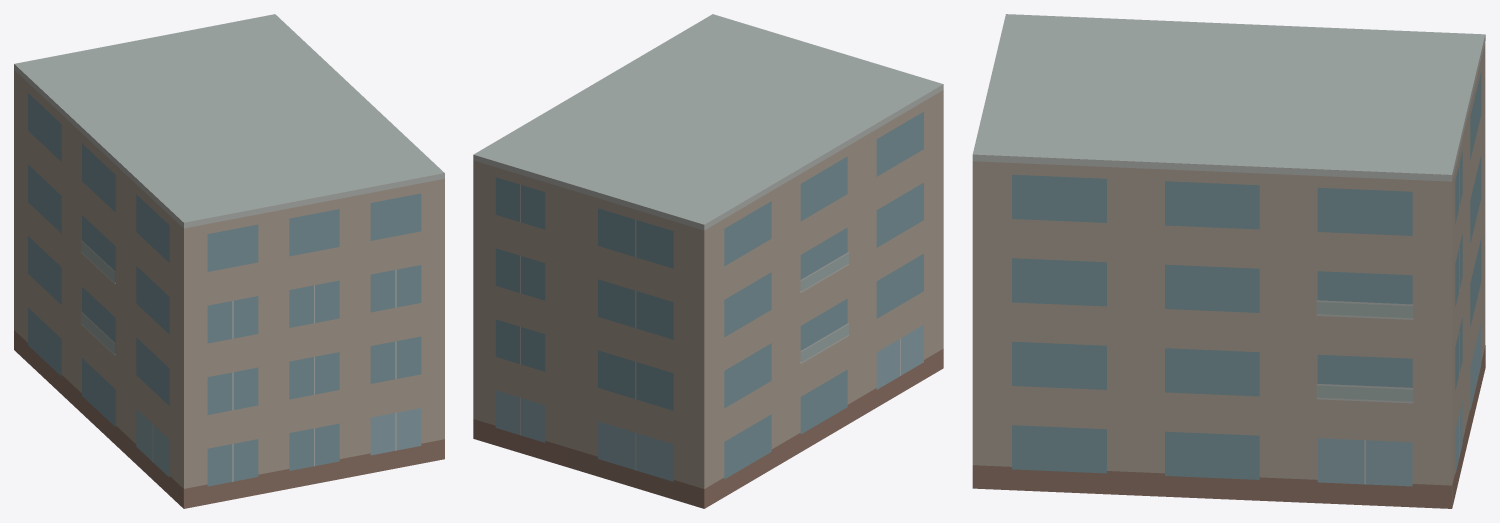
File: residential-0fbb04ec-c021-4abb-ad24-7d38bbdd59fc.glb
3 renders of one model, left to right at view 1: azimuth 30°, elevation 25°; view 2: azimuth 150°, elevation 25°; view 3: azimuth 270°, elevation 25°, orthographic. The views are drawn at different scales.
Parts seen in each view (by area): view 1: residential-0fbb04ec-c021-4abb-ad24-7d38bbdd59fc.tmp; view 2: residential-0fbb04ec-c021-4abb-ad24-7d38bbdd59fc.tmp; view 3: residential-0fbb04ec-c021-4abb-ad24-7d38bbdd59fc.tmp.
Boxes of the visible parts, x1,y1,x2,y2 form: residential-0fbb04ec-c021-4abb-ad24-7d38bbdd59fc.tmp: (14,14,444,508); residential-0fbb04ec-c021-4abb-ad24-7d38bbdd59fc.tmp: (473,14,943,508); residential-0fbb04ec-c021-4abb-ad24-7d38bbdd59fc.tmp: (972,14,1485,508).
Size of the model in its own units: 12.62 by 12.2 by 16.99.
